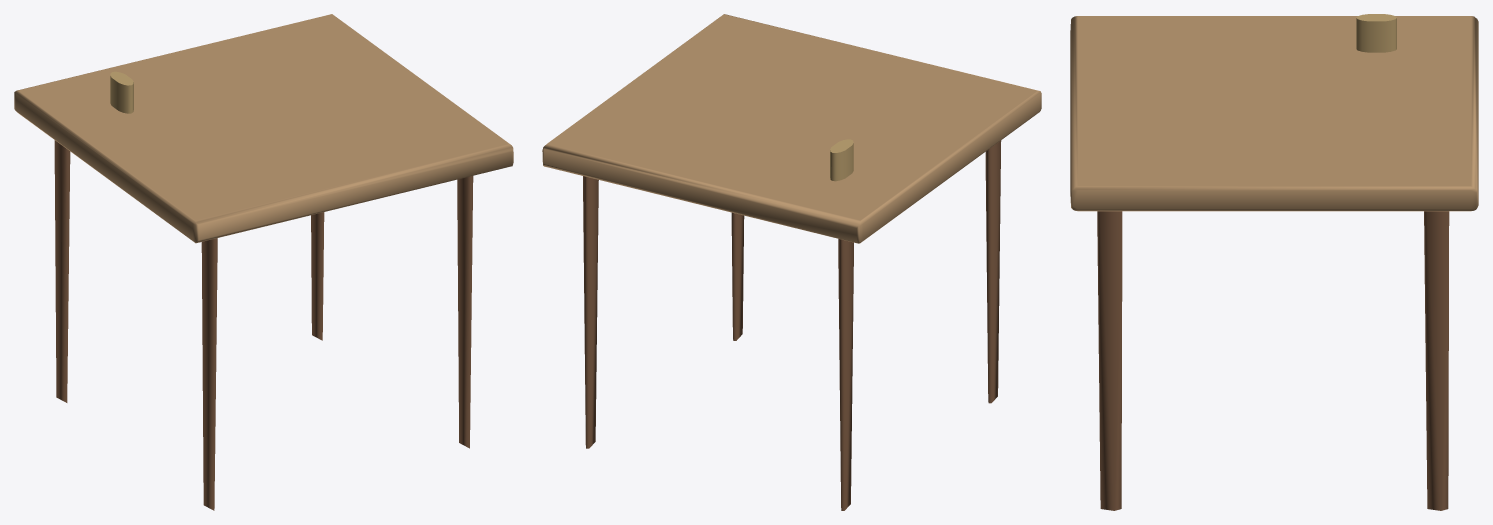
Rendered from desk-5-0.lod.glb.
3 renders of one model, left to right at view 1: azimuth 30°, elevation 25°; view 2: azimuth 150°, elevation 25°; view 3: azimuth 270°, elevation 25°, orthographic. The views are drawn at different scales.
Parts seen in each view (by area): view 1: upholstery, part (×2); view 2: upholstery, part (×2); view 3: upholstery, part (×2).
Part boxes in pixels (x1,y1,x2,y2): upholstery: (14,14,513,243); part (×2): (54,71,473,510); upholstery: (542,14,1041,243); part (×2): (583,139,1001,510); upholstery: (1070,16,1478,211); part (×2): (1097,14,1449,510).
Size of the model in its own units: 1 by 1 by 1.
